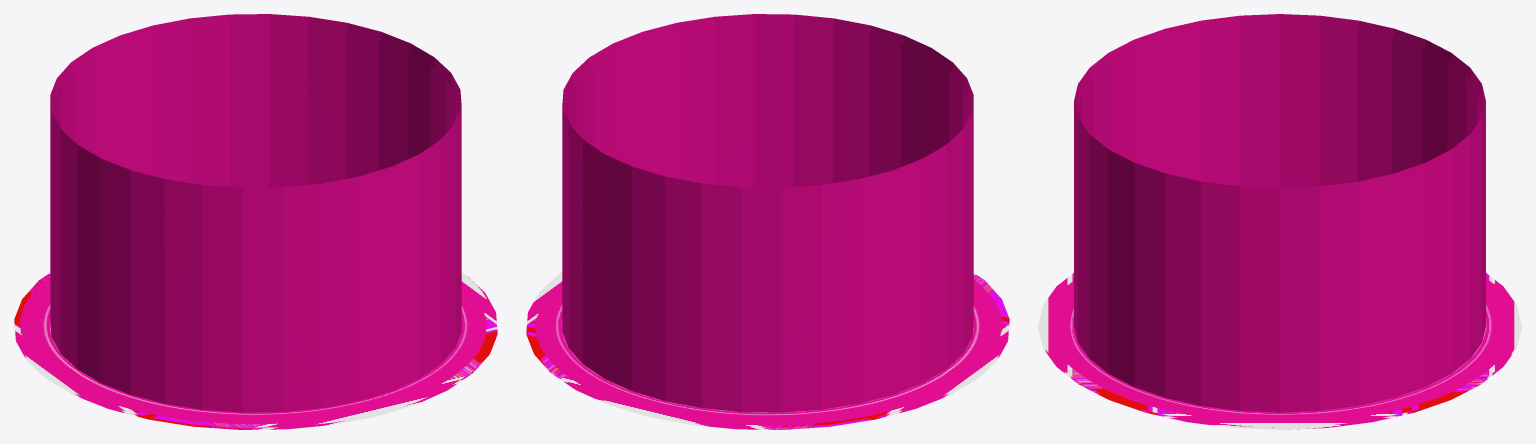
Rendered from teleport-seat.fbx.
The picture shows the model from 3 angles, left to right: view 1: azimuth 30°, elevation 25°; view 2: azimuth 150°, elevation 25°; view 3: azimuth 270°, elevation 25°; orthographic projection.
Parts seen in each view (by area): view 1: Cylinder; view 2: Cylinder; view 3: Cylinder.
Boxes of the visible parts, bbox=[...] form: Cylinder: bbox=[14, 14, 497, 429]; Cylinder: bbox=[526, 14, 1009, 429]; Cylinder: bbox=[1038, 14, 1521, 429].
Bounding box in the file's own units: 154 × 81.61 × 154.
1 material, 1 textured.
